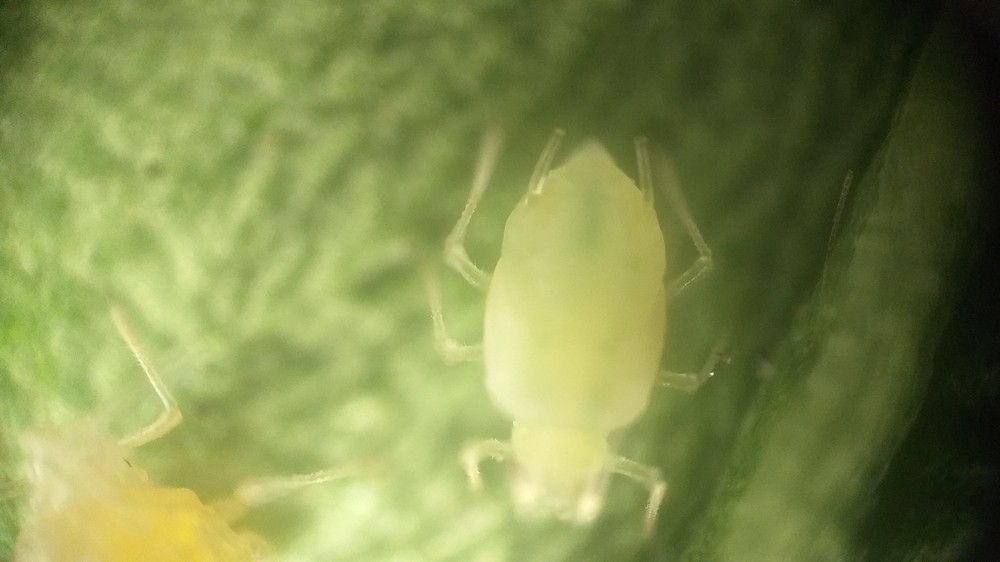Pulgon: (403, 116, 757, 539)
